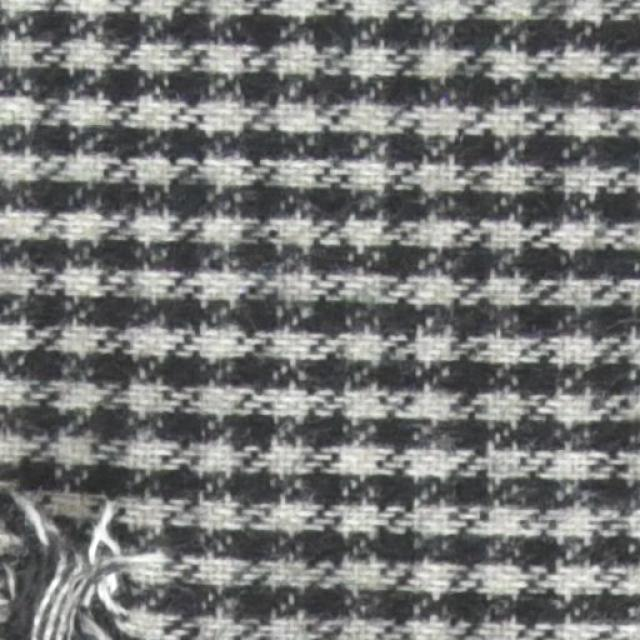Snag: (3, 480, 162, 640)
